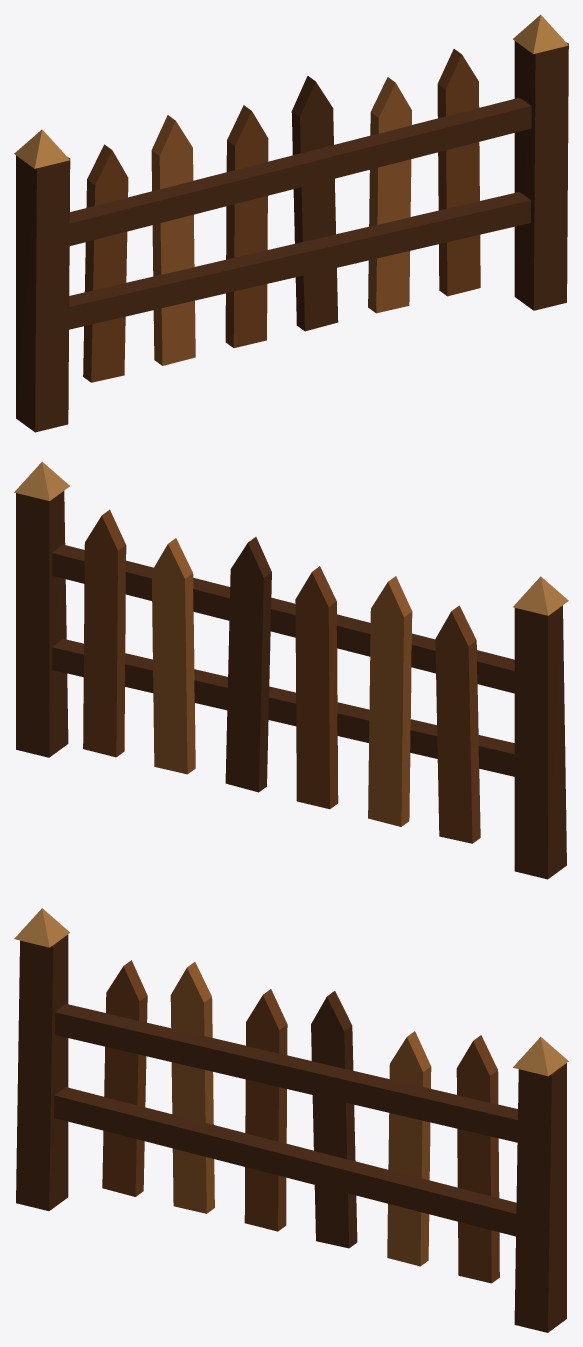
File: fence_straight_3m.obj
The picture shows the model from 3 angles, top to bottom: view 1: azimuth 30°, elevation 25°; view 2: azimuth 150°, elevation 25°; view 3: azimuth 330°, elevation 25°; orthographic projection.
Parts seen in each view (by area): view 1: rail_high, rail_low, post_left_shaft, post_right_shaft, picket_4, picket_2, picket_6, picket_3, picket_1, picket_5, post_left_cap, post_right_cap; view 2: post_left_shaft, post_right_shaft, picket_4, picket_2, picket_6, picket_3, picket_1, picket_5, rail_high, rail_low, post_left_cap, post_right_cap; view 3: rail_low, rail_high, post_right_shaft, post_left_shaft, picket_4, picket_2, picket_6, picket_3, picket_1, picket_5, post_left_cap, post_right_cap.
Part boxes in pixels (left/top/right/bottom): rail_high: left=69, top=98, right=531, bottom=245; rail_low: left=69, top=192, right=531, bottom=329; post_left_shaft: left=16, top=155, right=70, bottom=432; post_right_shaft: left=514, top=41, right=568, bottom=310; picket_4: left=291, top=76, right=338, bottom=331; picket_2: left=151, top=115, right=195, bottom=365; picket_6: left=437, top=49, right=480, bottom=296; picket_3: left=225, top=105, right=268, bottom=347; picket_1: left=83, top=144, right=128, bottom=382; picket_5: left=368, top=77, right=411, bottom=313; post_left_cap: left=14, top=129, right=69, bottom=168; post_right_cap: left=513, top=14, right=568, bottom=53; post_left_shaft: left=514, top=605, right=566, bottom=879; post_right_shaft: left=16, top=491, right=68, bottom=757; picket_4: left=225, top=537, right=271, bottom=792; picket_2: left=368, top=576, right=412, bottom=826; picket_6: left=83, top=509, right=126, bottom=757; picket_3: left=295, top=566, right=338, bottom=809; picket_1: left=435, top=605, right=480, bottom=843; picket_5: left=151, top=538, right=195, bottom=774; rail_high: left=52, top=544, right=514, bottom=693; rail_low: left=52, top=639, right=514, bottom=776; post_left_cap: left=513, top=576, right=568, bottom=615; post_right_cap: left=14, top=461, right=69, bottom=500; rail_low: left=54, top=1087, right=516, bottom=1236; rail_high: left=55, top=1003, right=517, bottom=1142; post_right_shaft: left=514, top=1063, right=566, bottom=1332; post_left_shaft: left=16, top=934, right=68, bottom=1210; picket_4: left=311, top=991, right=357, bottom=1248; picket_2: left=170, top=962, right=214, bottom=1213; picket_6: left=456, top=1035, right=499, bottom=1283; picket_3: left=244, top=989, right=287, bottom=1231; picket_1: left=102, top=960, right=147, bottom=1196; picket_5: left=387, top=1031, right=431, bottom=1266; post_left_cap: left=14, top=908, right=69, bottom=947; post_right_cap: left=513, top=1037, right=568, bottom=1076.
Bounding box in the file's own units: 3.23 × 1.68 × 0.25.
